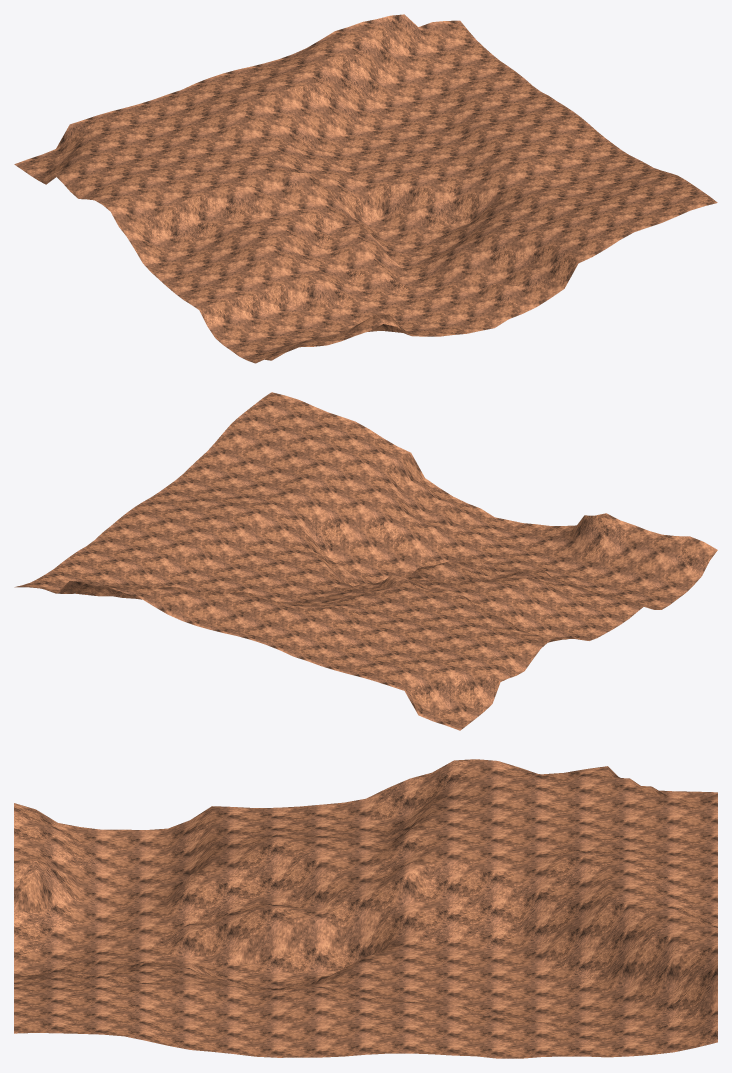
The model's file is terrain_03_17.dae.
3 renders of one model, top to bottom at view 1: azimuth 30°, elevation 25°; view 2: azimuth 150°, elevation 25°; view 3: azimuth 270°, elevation 25°, orthographic. The views are drawn at different scales.
Visible parts, largest first — view 1: terrain_03_17-node; view 2: terrain_03_17-node; view 3: terrain_03_17-node.
Part boxes in pixels (left/top/right/bottom): terrain_03_17-node: left=14, top=14, right=717, bottom=363; terrain_03_17-node: left=14, top=392, right=717, bottom=730; terrain_03_17-node: left=14, top=759, right=717, bottom=1058.
Bounding box in the file's own units: 128 × 128 × 23.85.
1 material, 1 textured.
